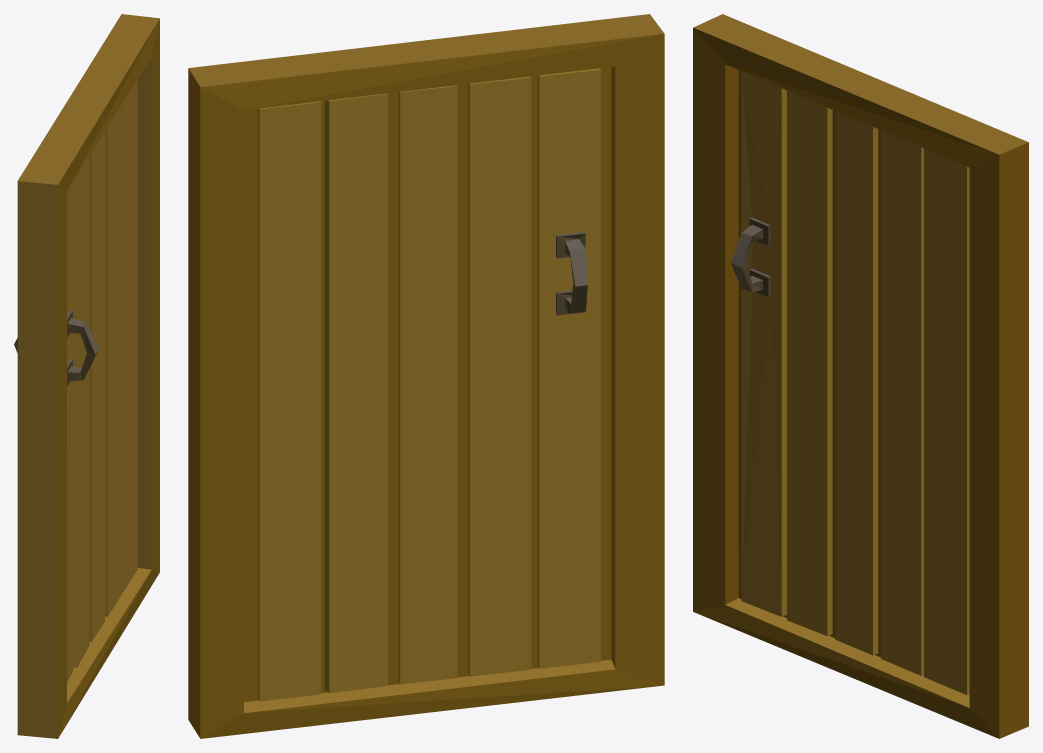
3 renders of one model, left to right at view 1: azimuth 30°, elevation 25°; view 2: azimuth 150°, elevation 25°; view 3: azimuth 270°, elevation 25°, orthographic. The views are drawn at different scales.
Size of the model in its own units: 124 by 240 by 125.
1 material, 1 textured.
